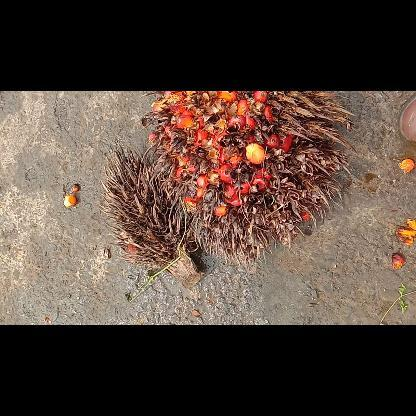Janjang kosong: (100, 145, 204, 288)
Terlalu masak: (142, 90, 356, 266)
